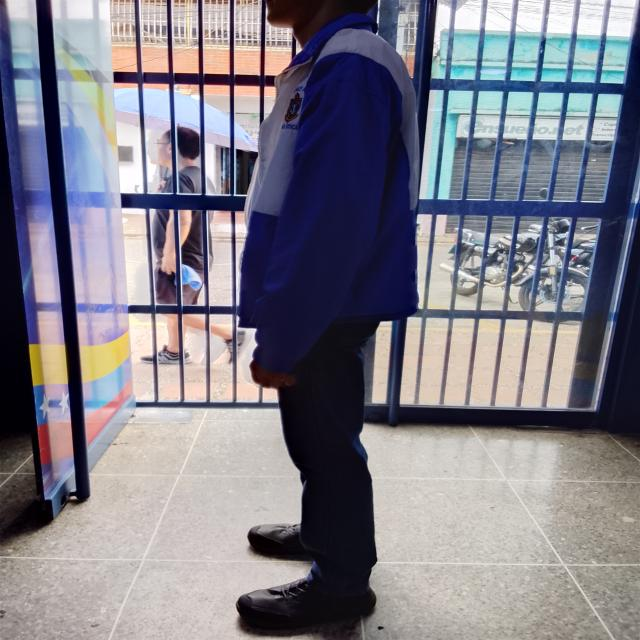chaqueta_unefa: (237, 13, 421, 374)
